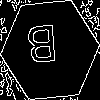B: (25, 25, 59, 73)
